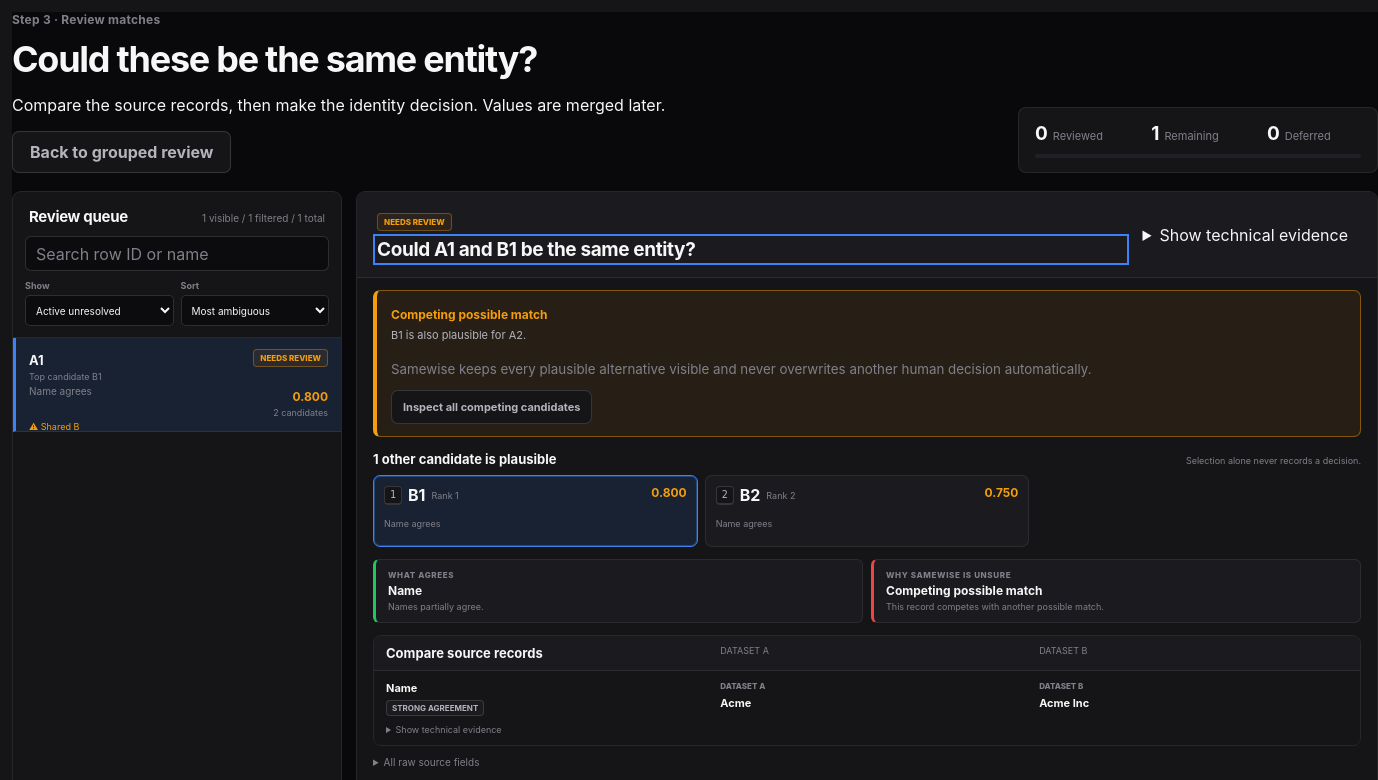
Test: bounded review workspace › switches candidate rank without recording a decision
This screenshot has width=1378, height=780.
Click the button with aria-label "Select candidate rank 2" at point(1001, 493), box [705,475,1029,547]
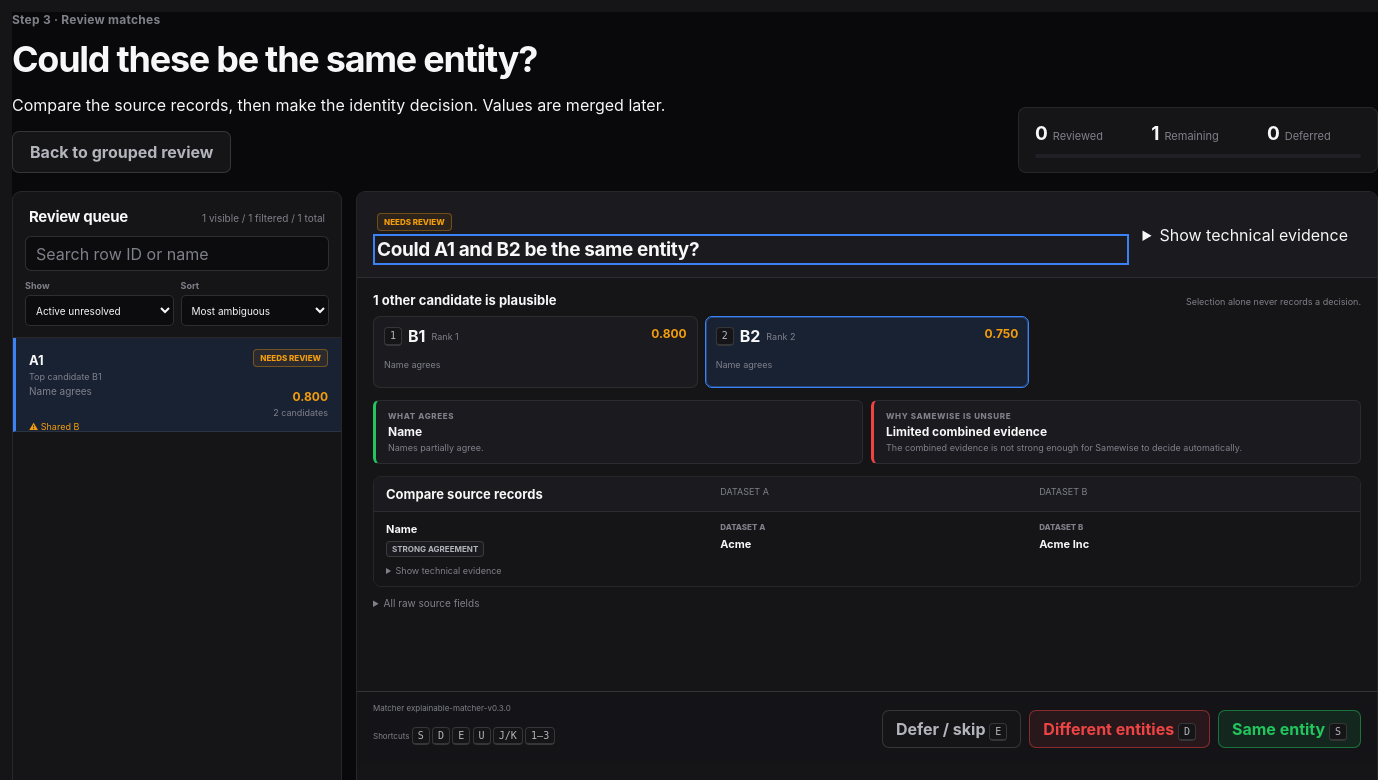
Expected: the heading "Could A1 and B2 be the same entity?" is shown, [377,238,699,261]
